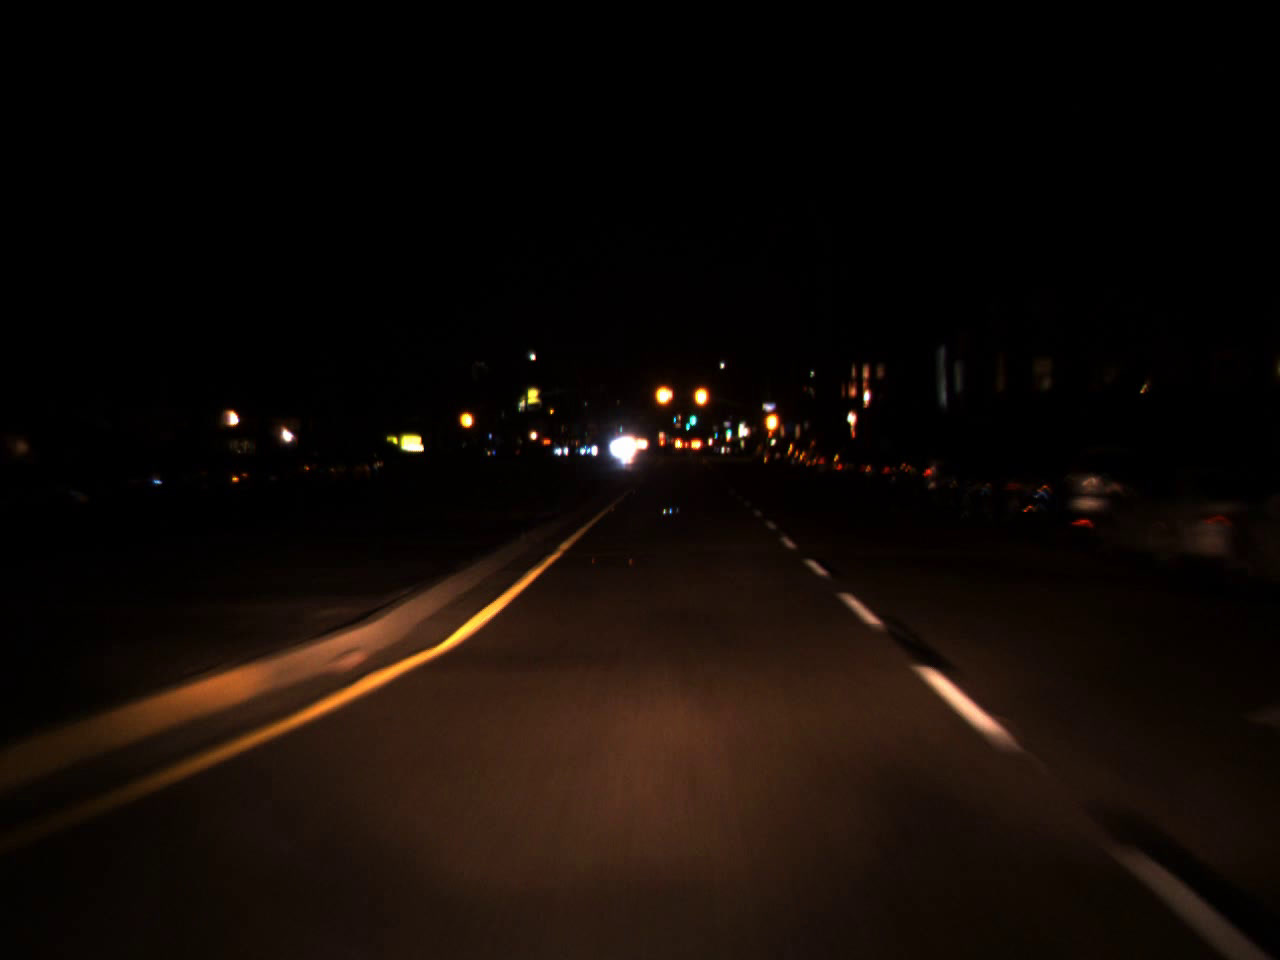go: (687, 402, 697, 429), (725, 419, 732, 438), (711, 427, 720, 439), (684, 418, 691, 430)
warning: (651, 371, 676, 416), (691, 373, 710, 418), (455, 400, 477, 435), (762, 404, 783, 439)
